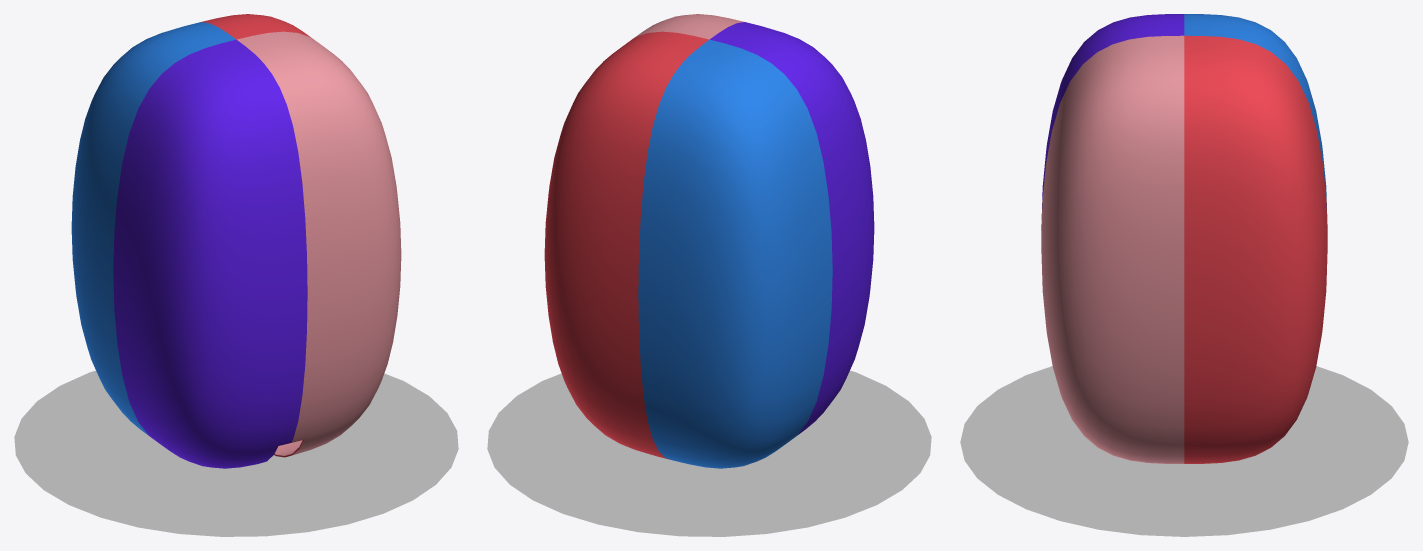
The model's file is Tesseract-Sweet-Candy.glb.
3 views of the same model, side by side, from view 1: azimuth 30°, elevation 25°; view 2: azimuth 150°, elevation 25°; view 3: azimuth 270°, elevation 25° (orthographic).
Visible parts, largest first — view 1: Plane, Circle; view 2: Plane, Circle; view 3: Plane, Circle.
Boxes of the visible parts, x1,y1,x2,y2 form: Plane: [71, 14, 401, 468]; Circle: [14, 370, 458, 536]; Plane: [544, 14, 874, 468]; Circle: [487, 370, 931, 536]; Plane: [1041, 14, 1327, 463]; Circle: [960, 366, 1408, 536].
Size of the model in its own units: 30 by 30 by 30.
